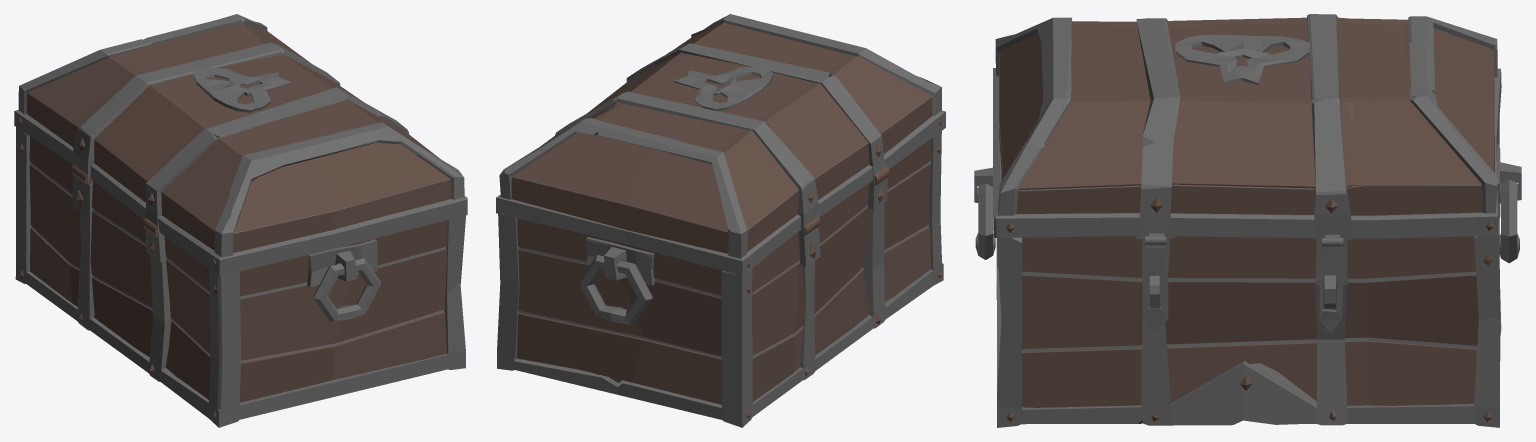
Rendered from uploads_files_2930516_Treasure_chest_LowPoly (1).fbx.
3 renders of one model, left to right at view 1: azimuth 30°, elevation 25°; view 2: azimuth 150°, elevation 25°; view 3: azimuth 270°, elevation 25°, orthographic. The views are drawn at different scales.
Visible parts, largest first — view 1: chest.003, chest.002; view 2: chest.003, chest.002; view 3: chest.003, chest.002.
Boxes of the visible parts, x1=… form: chest.003: x1=14, y1=14, x2=467, y2=276; chest.002: x1=15, y1=127, x2=465, y2=427; chest.003: x1=496, y1=14, x2=945, y2=276; chest.002: x1=497, y1=131, x2=943, y2=427; chest.003: x1=993, y1=14, x2=1501, y2=332; chest.002: x1=974, y1=118, x2=1521, y2=427.
Size of the model in its own units: 49.94 by 43.16 by 71.31.
